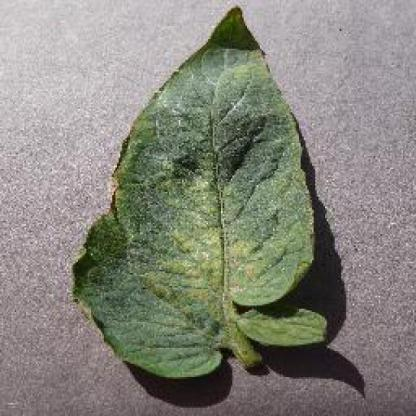Tomato_Spider_Mites: (72, 8, 326, 372)
